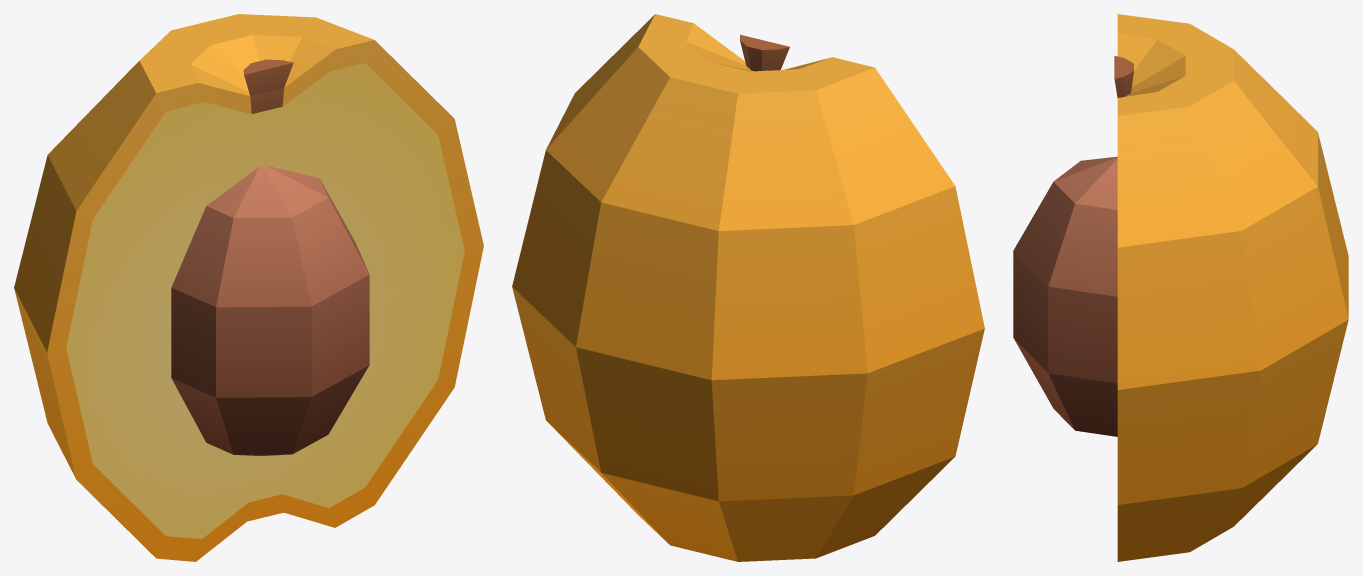
Rendered from Apricot Half.fbx.
The picture shows the model from 3 angles, left to right: view 1: azimuth 30°, elevation 25°; view 2: azimuth 150°, elevation 25°; view 3: azimuth 270°, elevation 25°; orthographic projection. The views are drawn at different scales.
Visible parts, largest first — view 1: Apricot Half; view 2: Apricot Half; view 3: Apricot Half.
Part boxes in pixels (x1,y1,x2,y2): Apricot Half: (14, 14, 483, 561); Apricot Half: (512, 14, 984, 561); Apricot Half: (1013, 14, 1348, 561).
Bounding box in the file's own units: 11.69 × 12.23 × 8.11.
